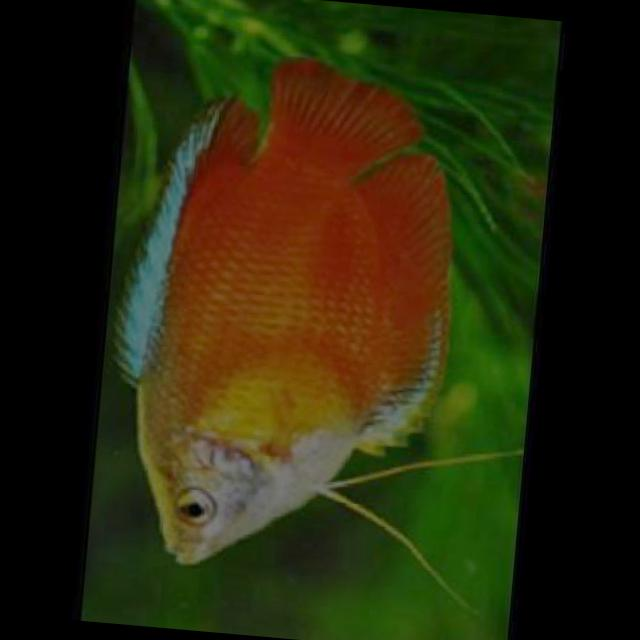Gourami: (84, 42, 477, 586)
